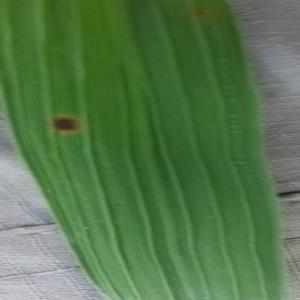Brown_Spot: (42, 108, 89, 141), (189, 3, 215, 24)
